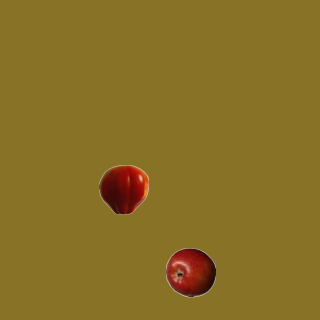Apple Braeburn: (165, 247, 215, 297)
Tomato 1: (98, 164, 148, 214)
